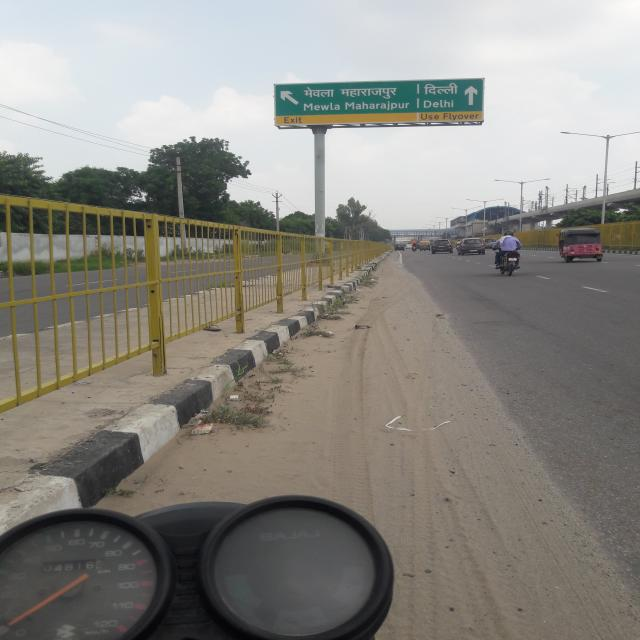GENERAL: (273, 78, 485, 126)
